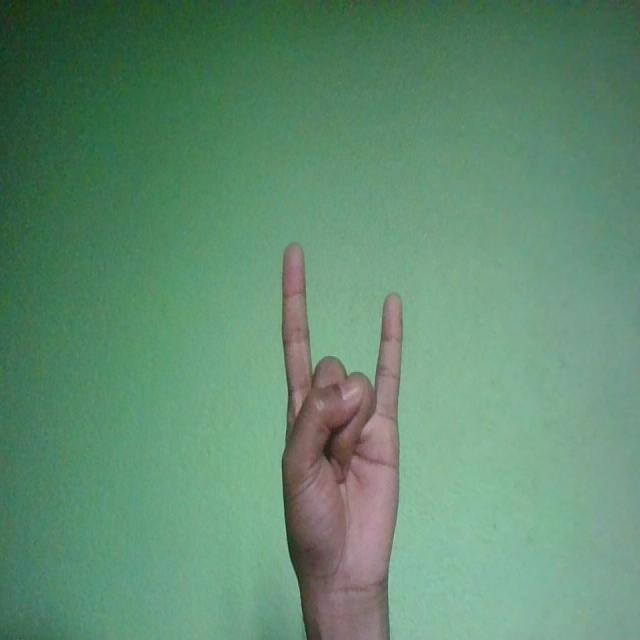open Plam: (282, 241, 404, 599)
